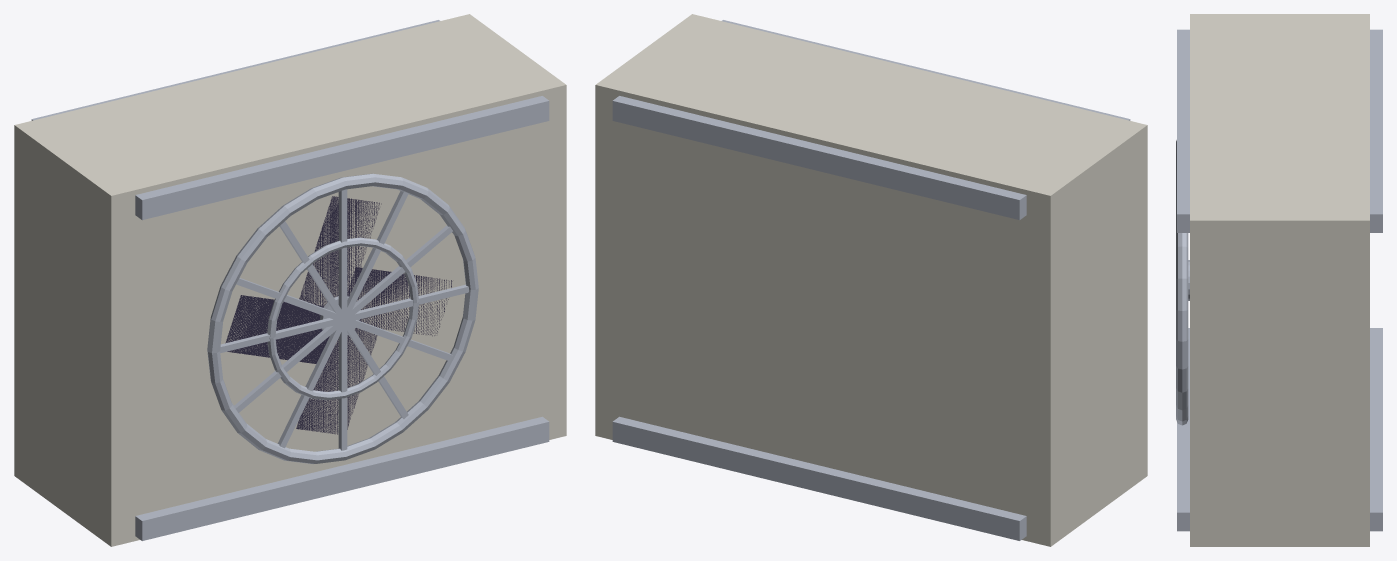
The model's file is condizionatore.glb.
3 renders of one model, left to right at view 1: azimuth 30°, elevation 25°; view 2: azimuth 150°, elevation 25°; view 3: azimuth 270°, elevation 25°, orthographic. The views are drawn at different scales.
Parts seen in each view (by area): view 1: corpo, piede.001, piede, griglia, griglia2, pala.003, pala, pala.002, pala.001, sbarra, sbarra.001, sbarra.002 (+3 smaller); view 2: corpo, piede.001, piede; view 3: corpo, piede.001, piede, griglia.
Boxes of the visible parts, bbox=[...] form: corpo: bbox=[14, 14, 566, 546]; piede.001: bbox=[31, 20, 549, 220]; piede: bbox=[135, 416, 549, 540]; griglia: bbox=[207, 173, 478, 464]; griglia2: bbox=[267, 237, 419, 400]; pala.003: bbox=[225, 295, 329, 363]; pala: bbox=[299, 196, 381, 306]; pala.002: bbox=[296, 320, 379, 434]; pala.001: bbox=[347, 267, 452, 336]; sbarra: bbox=[338, 189, 347, 450]; sbarra.001: bbox=[277, 191, 408, 448]; sbarra.002: bbox=[234, 225, 452, 412]; corpo: bbox=[595, 14, 1147, 546]; piede.001: bbox=[612, 20, 1130, 220]; piede: bbox=[612, 416, 1026, 540]; corpo: bbox=[1190, 14, 1369, 546]; piede.001: bbox=[1177, 29, 1382, 232]; piede: bbox=[1177, 328, 1382, 531]; griglia: bbox=[1176, 140, 1188, 425].
Size of the model in its own units: 0.95 by 0.7 by 0.402.
